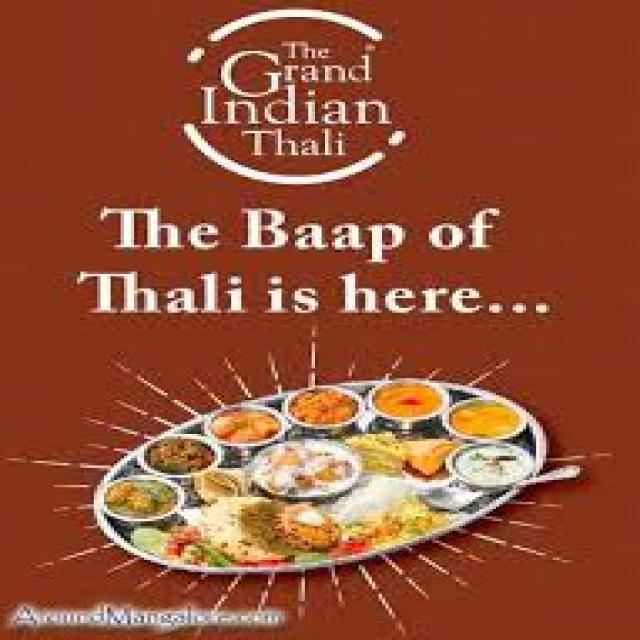curd: (447, 442, 547, 491)
dal: (355, 375, 459, 425), (437, 395, 532, 442)
raita: (444, 443, 549, 491)
sweet: (90, 473, 192, 531), (438, 397, 534, 444)
veg-fry: (103, 418, 252, 491), (86, 469, 201, 531), (259, 376, 378, 433)
